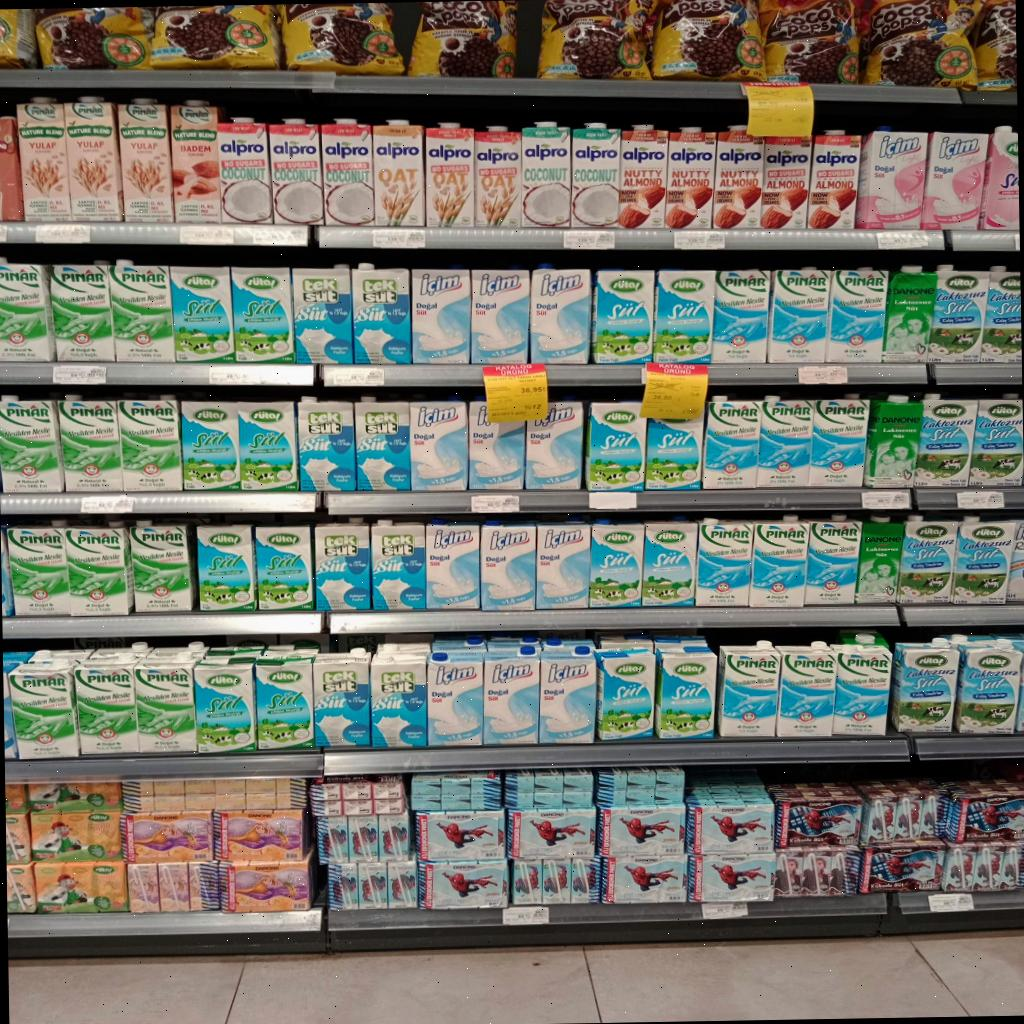price_tag: (774, 846, 860, 897), (743, 82, 814, 137), (641, 364, 708, 420), (484, 364, 547, 423), (323, 365, 385, 387), (250, 225, 307, 246), (209, 366, 267, 385), (179, 225, 234, 245), (36, 224, 90, 243), (374, 228, 425, 248), (564, 230, 615, 250), (53, 365, 106, 384), (861, 490, 910, 510), (80, 495, 134, 513), (674, 230, 725, 249), (798, 365, 848, 384), (877, 231, 928, 249), (471, 494, 519, 513), (588, 491, 636, 510), (502, 906, 549, 925), (929, 893, 974, 912), (957, 491, 1004, 509), (701, 902, 748, 919), (0, 224, 8, 242), (1015, 235, 1019, 251)
product: (855, 126, 927, 229), (65, 97, 123, 220), (7, 663, 79, 759), (16, 98, 72, 221), (118, 98, 173, 222), (921, 131, 987, 229), (109, 260, 173, 361), (170, 99, 222, 223), (890, 638, 959, 731), (50, 263, 114, 363), (59, 394, 123, 493), (170, 266, 235, 363), (0, 394, 64, 492), (64, 526, 133, 616), (73, 657, 137, 754), (955, 639, 1021, 733), (133, 654, 196, 752), (129, 520, 196, 612), (7, 519, 71, 615), (529, 264, 590, 364), (767, 266, 829, 364), (351, 263, 411, 364), (656, 638, 716, 739), (231, 267, 294, 363), (717, 640, 780, 736), (538, 640, 596, 743), (927, 265, 989, 361), (117, 399, 181, 491), (292, 266, 352, 364), (914, 394, 977, 487), (826, 267, 887, 363), (936, 778, 1024, 844), (591, 269, 653, 362), (255, 651, 313, 750), (653, 269, 714, 363), (268, 118, 322, 224), (411, 268, 471, 363), (219, 852, 314, 912), (321, 118, 374, 225), (470, 268, 529, 364), (484, 644, 540, 745), (195, 658, 255, 752), (372, 120, 424, 227), (863, 394, 922, 488), (776, 642, 835, 736), (314, 648, 370, 747), (219, 117, 271, 223), (0, 259, 54, 361), (297, 398, 356, 491), (831, 644, 891, 735), (711, 269, 769, 363), (409, 397, 467, 491), (371, 648, 426, 747), (427, 649, 483, 746), (239, 400, 298, 492), (702, 395, 760, 488), (315, 809, 413, 864), (354, 396, 411, 490), (586, 401, 646, 490), (596, 650, 655, 740), (952, 516, 1013, 603), (665, 126, 716, 230), (807, 130, 861, 228), (749, 515, 807, 606), (967, 394, 1023, 488), (181, 401, 240, 490), (196, 524, 257, 610), (755, 395, 812, 487), (712, 125, 762, 229), (213, 809, 311, 862), (525, 399, 582, 490), (425, 123, 475, 226), (33, 859, 128, 913), (809, 398, 867, 486), (521, 121, 570, 225), (882, 265, 935, 361), (255, 524, 314, 610), (571, 122, 619, 227), (805, 514, 861, 604), (468, 399, 523, 490), (619, 125, 667, 229), (898, 516, 956, 602), (696, 517, 752, 606), (856, 780, 937, 841), (775, 789, 860, 847), (314, 523, 370, 610), (481, 520, 535, 610), (425, 519, 479, 609), (759, 137, 811, 230), (642, 520, 697, 607), (589, 520, 643, 608), (371, 522, 425, 610), (327, 856, 416, 909), (858, 838, 945, 892), (536, 520, 589, 608), (475, 126, 521, 227), (127, 861, 218, 912), (686, 799, 773, 852), (30, 811, 121, 861), (124, 811, 211, 863), (415, 810, 504, 860), (687, 851, 774, 902), (419, 859, 507, 909), (600, 852, 686, 903), (597, 804, 684, 854), (855, 515, 903, 604), (645, 417, 703, 490), (940, 842, 1024, 892), (510, 857, 598, 904), (979, 126, 1019, 229), (511, 809, 595, 858), (980, 266, 1021, 362), (28, 781, 121, 812), (0, 116, 23, 221), (690, 304, 695, 305), (722, 806, 723, 807), (743, 694, 746, 694)
